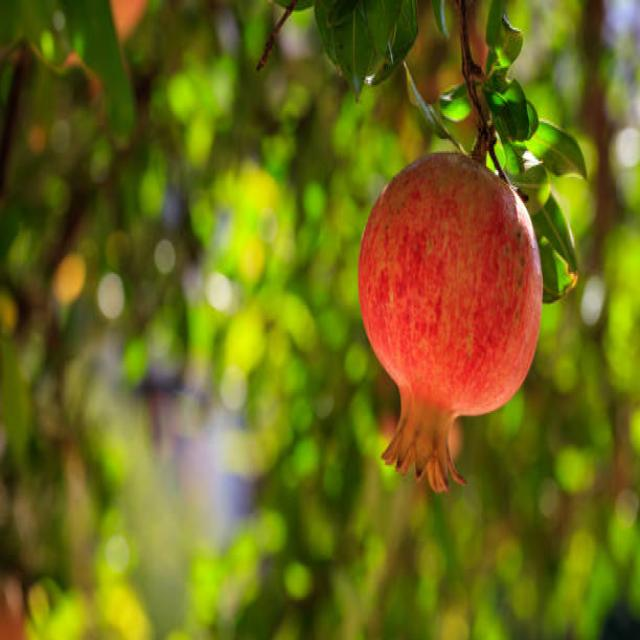Ripe: (356, 148, 546, 496)
